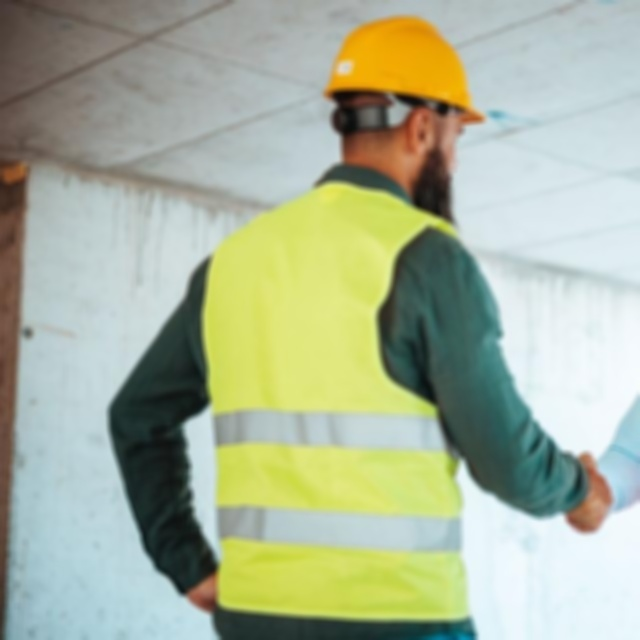Con_Chaleco: (199, 189, 477, 620)
